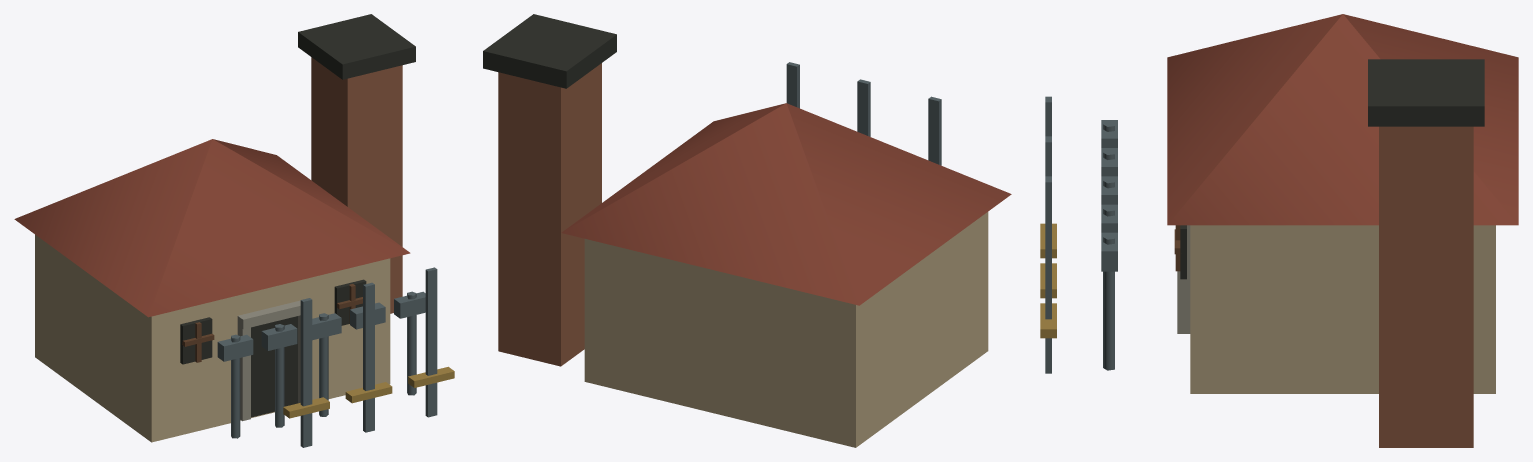
The model's file is custom-imp-armory.glb.
3 views of the same model, side by side, from view 1: azimuth 30°, elevation 25°; view 2: azimuth 150°, elevation 25°; view 3: azimuth 270°, elevation 25° (orthographic). The views are drawn at different scales.
Visible parts, largest first — view 1: custom-imp-armory; view 2: custom-imp-armory; view 3: custom-imp-armory.
Boxes of the visible parts, box(x1,y1,x2,y2) form: custom-imp-armory: box(14, 14, 454, 447); custom-imp-armory: box(483, 14, 1011, 447); custom-imp-armory: box(1040, 14, 1518, 447).
Bounding box in the file's own units: 1 × 0.736 × 0.9187.
